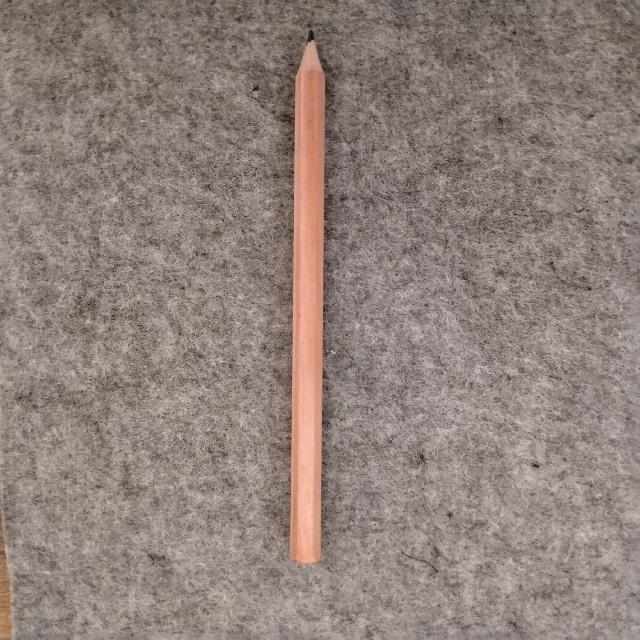pencil: (290, 32, 324, 562)
